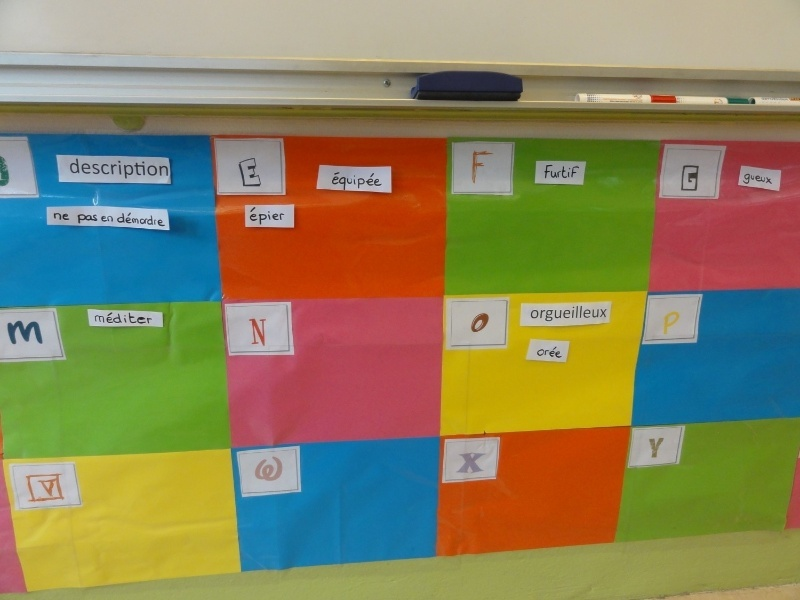text: (481, 147, 496, 185), (241, 157, 256, 188), (257, 454, 272, 484), (17, 320, 32, 347), (273, 454, 286, 484), (81, 157, 96, 182), (97, 157, 112, 182), (113, 157, 128, 182), (129, 157, 144, 182), (145, 157, 160, 182), (465, 452, 480, 476), (689, 164, 701, 193), (337, 171, 352, 193), (353, 171, 368, 193), (257, 318, 268, 348), (33, 320, 45, 347), (369, 171, 383, 193), (257, 206, 272, 226), (545, 305, 560, 324), (561, 305, 576, 324), (577, 305, 592, 324), (593, 305, 608, 324), (6, 320, 16, 347), (662, 311, 672, 338), (473, 147, 480, 185), (530, 305, 544, 324), (70, 157, 80, 182), (161, 157, 171, 182), (545, 164, 560, 180), (561, 164, 576, 180), (273, 206, 285, 226), (129, 211, 144, 227), (145, 211, 160, 227), (257, 157, 264, 188), (673, 311, 681, 338), (97, 311, 112, 325), (113, 311, 128, 325), (129, 311, 144, 325), (249, 318, 256, 348), (37, 478, 48, 497), (49, 478, 60, 497), (657, 437, 666, 460), (470, 313, 480, 333), (753, 173, 768, 186), (545, 346, 560, 359), (648, 437, 656, 460), (481, 313, 490, 333), (247, 206, 256, 226), (682, 164, 688, 193), (81, 214, 96, 225), (145, 311, 155, 325), (120, 211, 128, 227), (459, 452, 464, 476), (743, 173, 752, 186), (331, 171, 336, 193), (53, 212, 64, 221), (481, 452, 485, 476), (161, 211, 167, 227), (538, 346, 544, 359), (101, 216, 112, 222), (769, 173, 774, 186), (577, 164, 581, 180), (92, 311, 96, 325), (65, 212, 71, 221), (625, 100, 640, 103), (769, 98, 784, 101), (610, 100, 624, 103), (561, 346, 564, 359), (497, 147, 498, 185), (77, 214, 80, 225), (239, 157, 240, 188), (255, 454, 256, 484), (609, 305, 610, 324), (762, 98, 768, 101), (791, 99, 800, 101), (785, 98, 789, 101), (97, 214, 98, 225), (113, 216, 114, 222), (641, 100, 643, 103)
